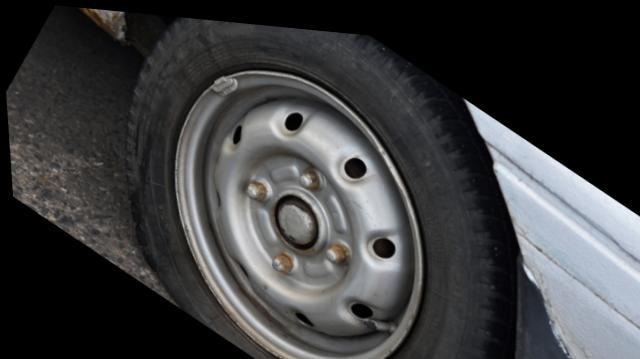tire flat: (123, 14, 517, 359)
